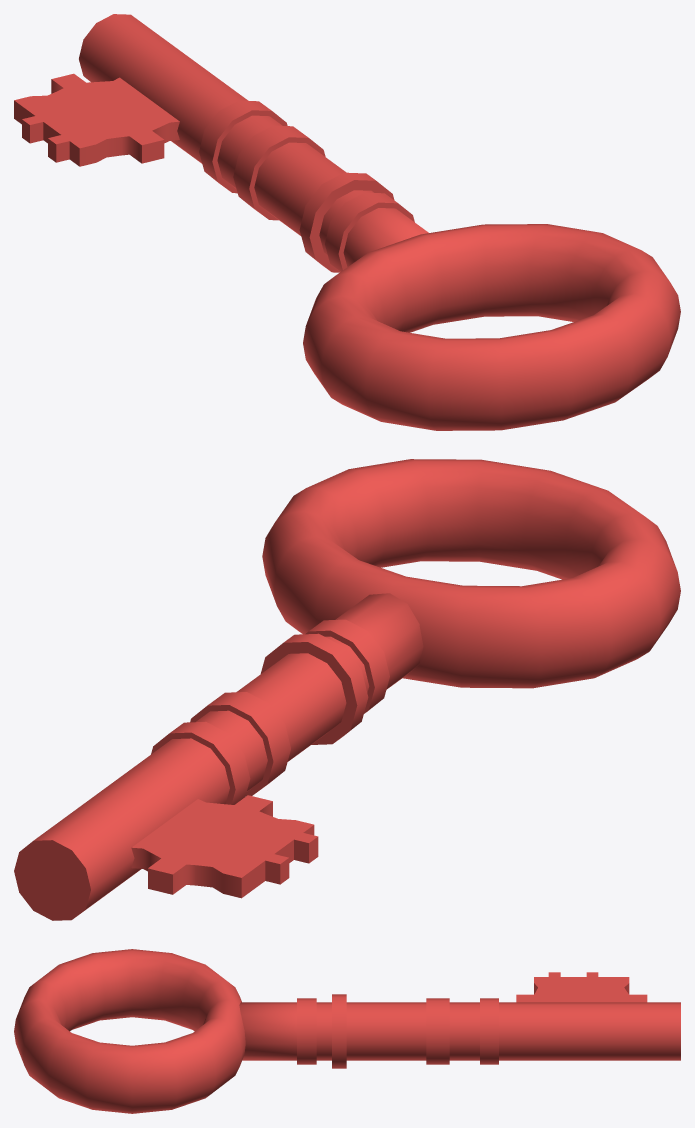
The model's file is SM_key.fbx.
The picture shows the model from 3 angles, top to bottom: view 1: azimuth 30°, elevation 25°; view 2: azimuth 150°, elevation 25°; view 3: azimuth 270°, elevation 25°; orthographic projection. The views are drawn at different scales.
Visible parts, largest first — view 1: SM_Key; view 2: SM_Key; view 3: SM_Key.
Boxes of the visible parts, <box> form: SM_Key: <box>14,14,680,430</box>; SM_Key: <box>14,459,680,920</box>; SM_Key: <box>14,949,680,1113</box>.
Bounding box in the file's own units: 0.3173 × 0.0828 × 0.74.
